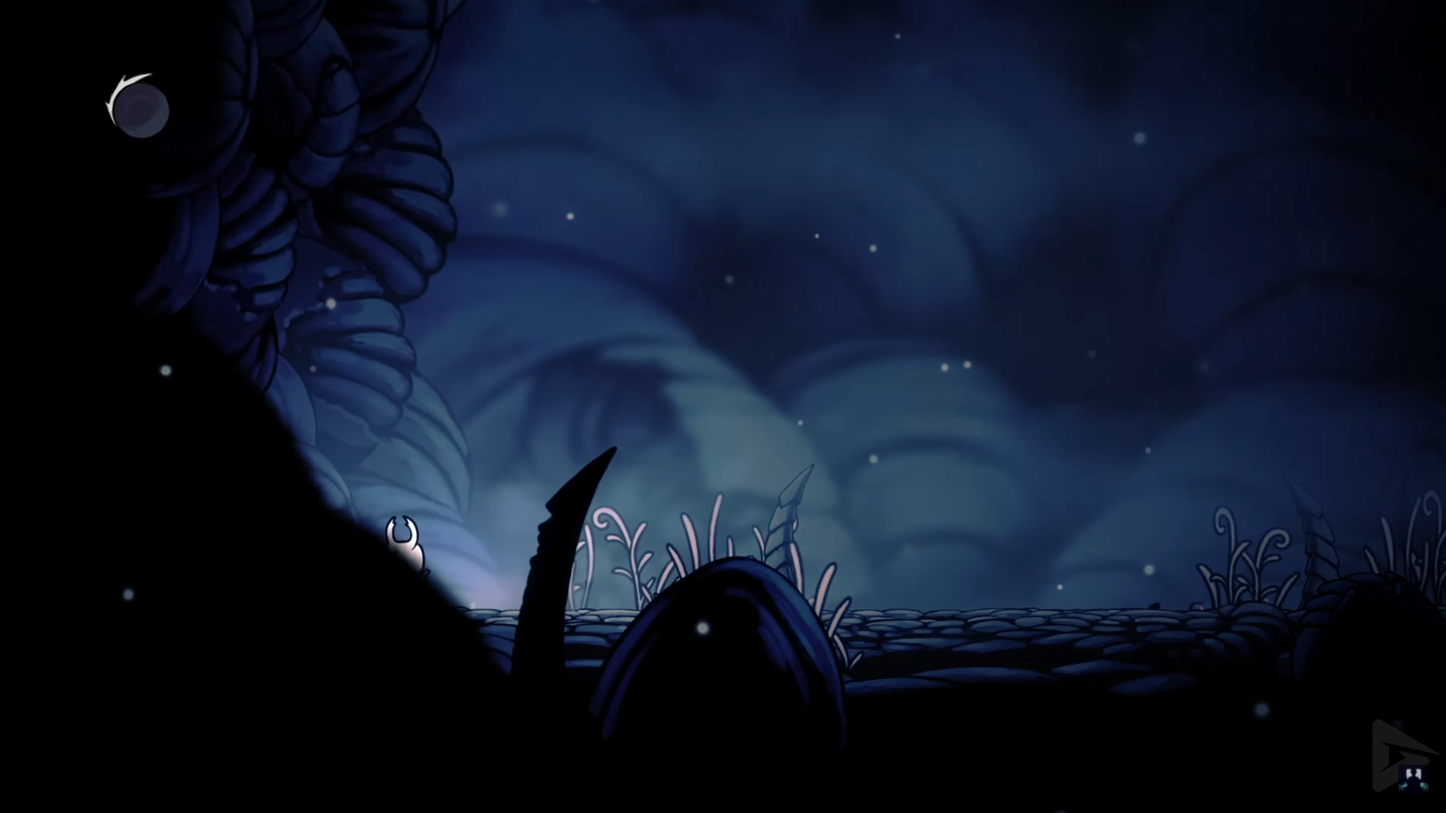HK: (383, 510, 429, 610)
